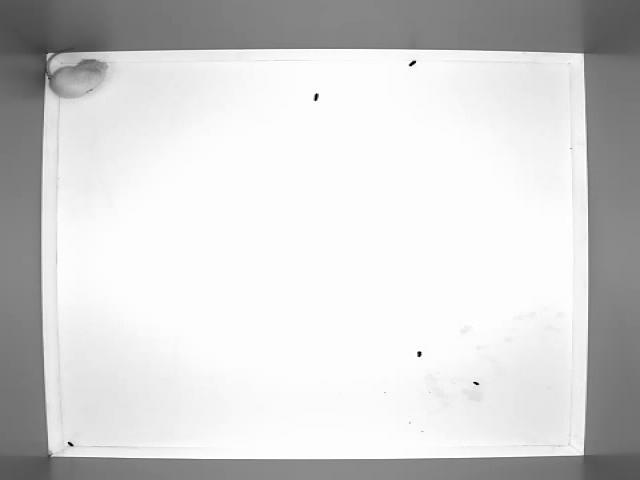Tikus: (33, 40, 127, 98)
